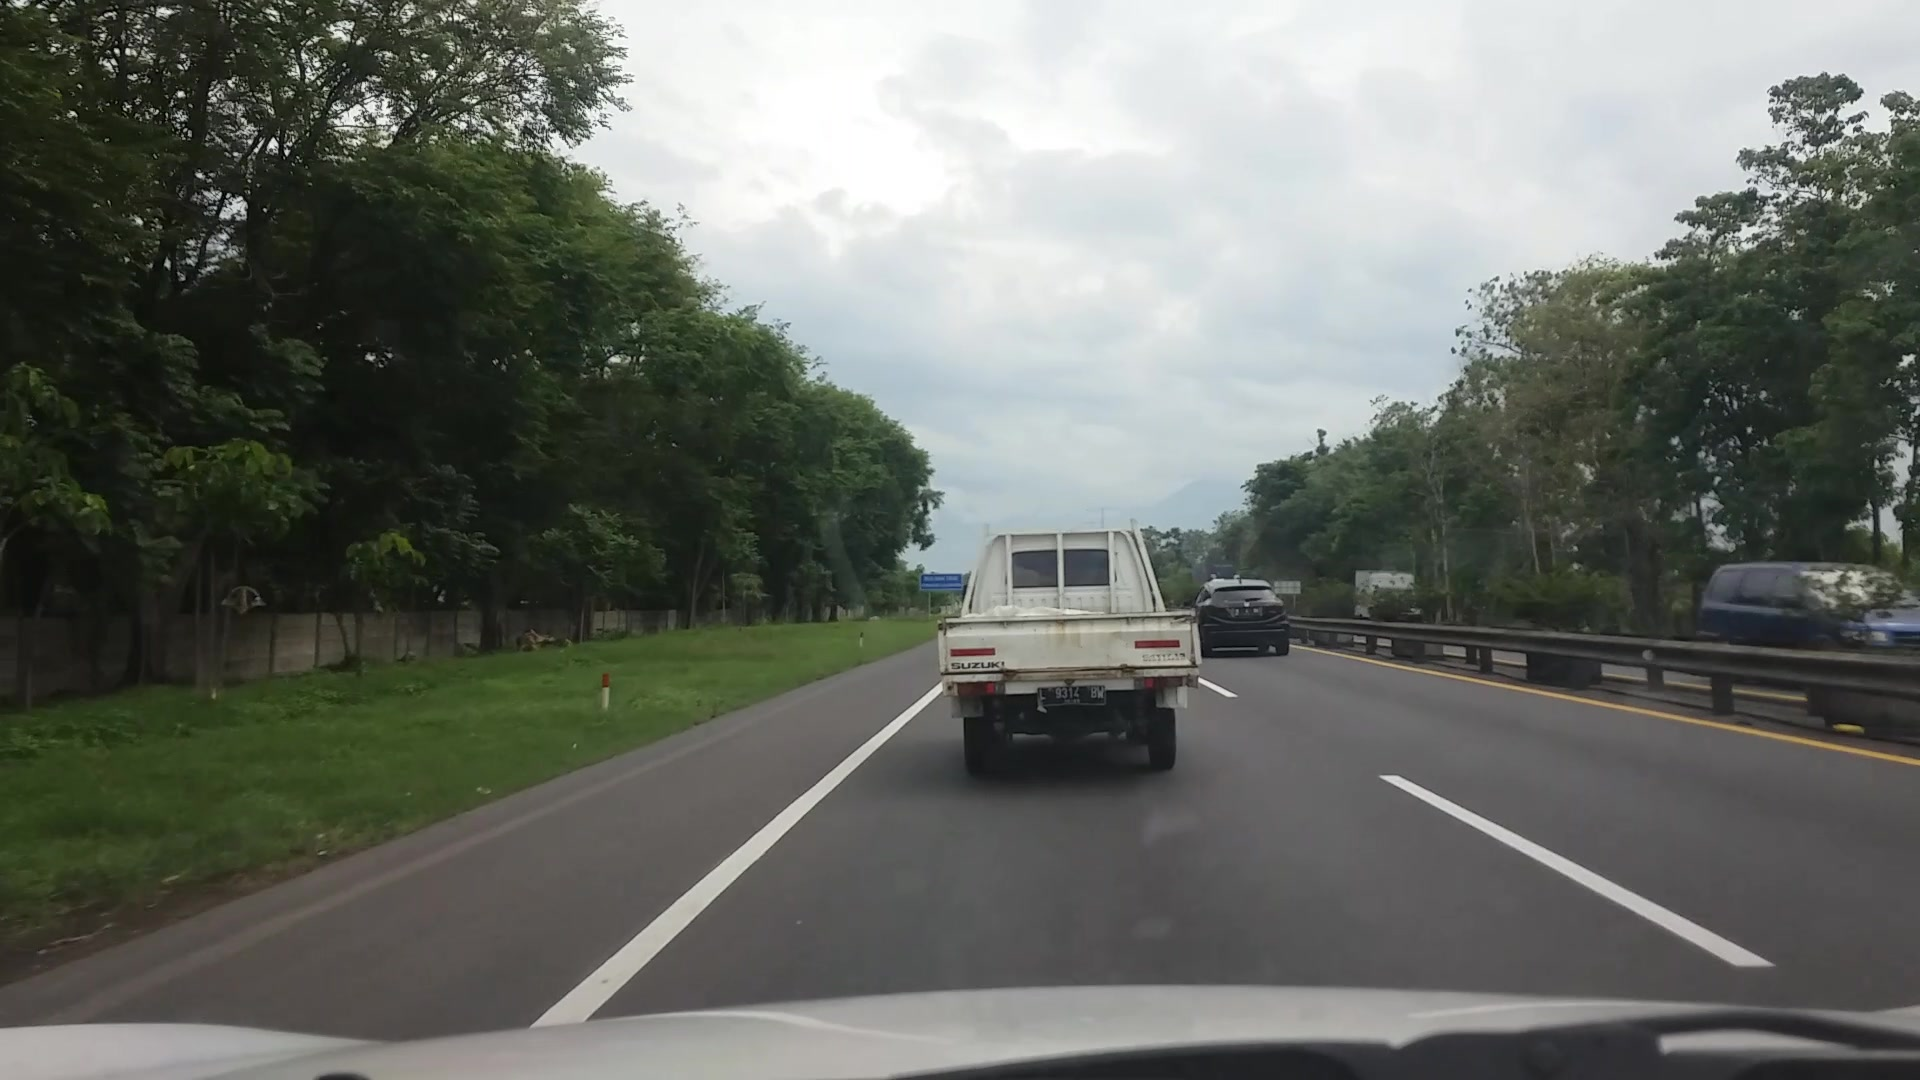plate_positive: (1036, 684, 1106, 708)
